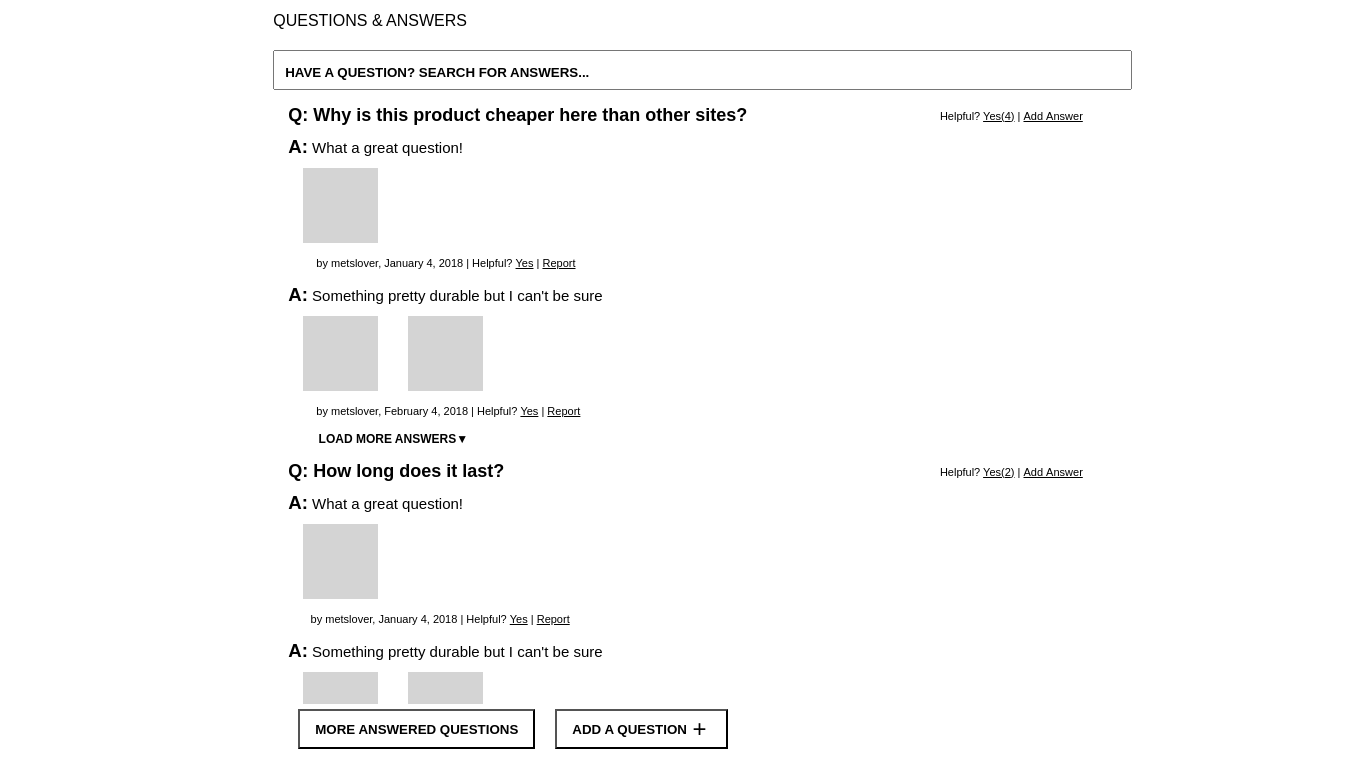
it: QA › Should display add question form on click add question button
What coordinates should you click on to do the following:
click the button "ADD A QUESTION"
I would click on:
 (642, 729)
Its box is [555,709,728,749].
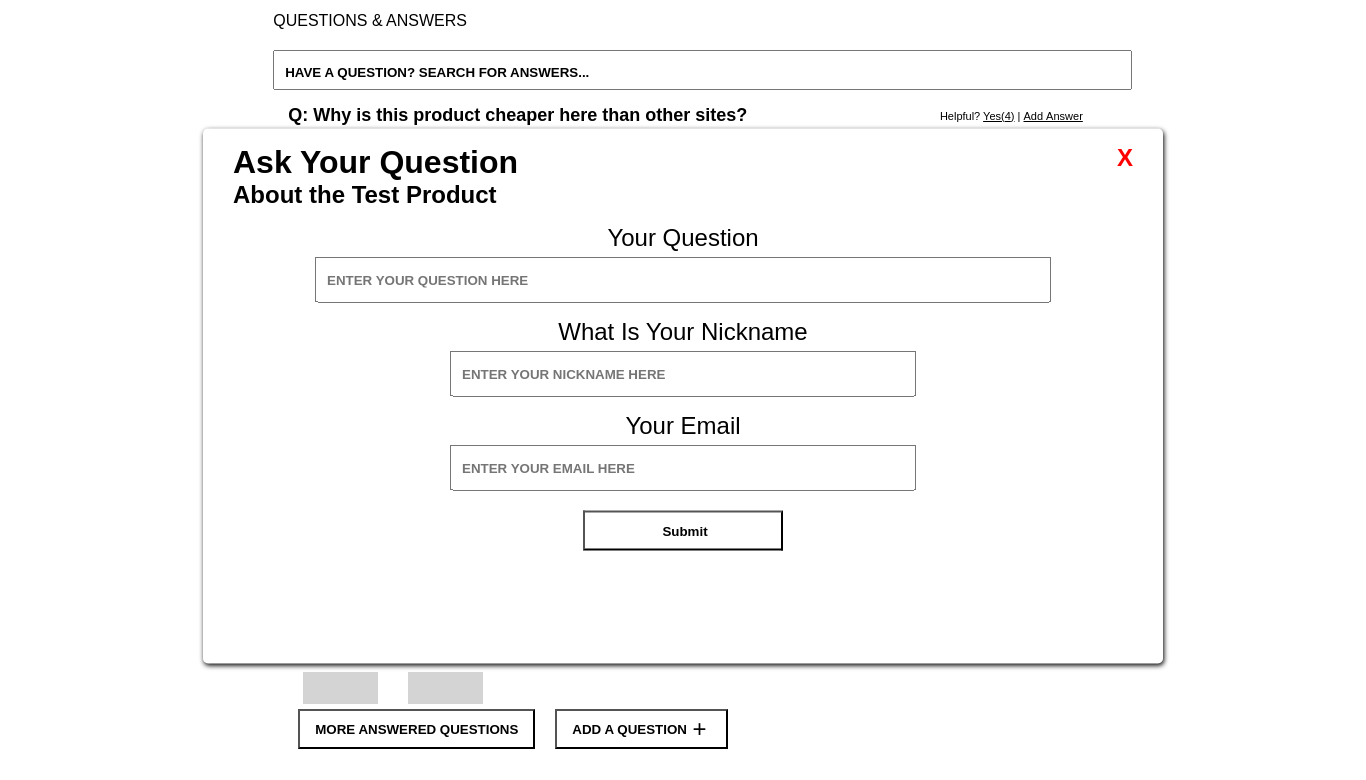
Result: the element that starts with "Ask Your Question" is shown at [203,128,1163,664]
